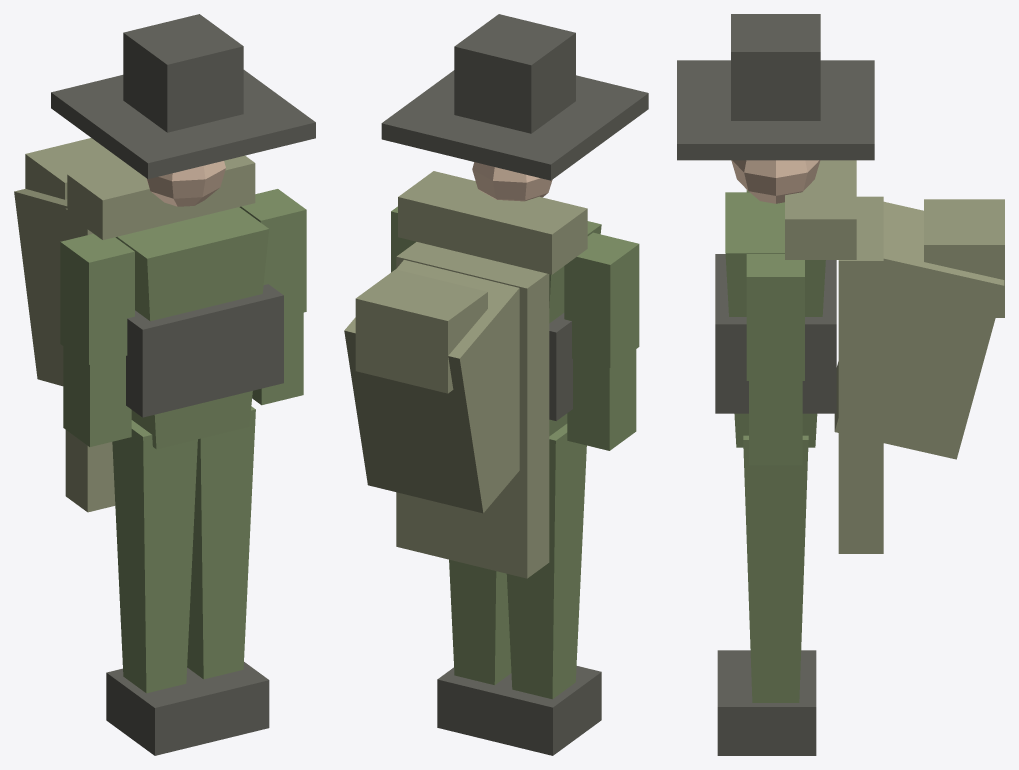
File: unit_sniper_rigged.glb
3 renders of one model, left to right at view 1: azimuth 30°, elevation 25°; view 2: azimuth 150°, elevation 25°; view 3: azimuth 270°, elevation 25°, orthographic.
Parts seen in each view (by area): view 1: accent_head, trim_torso, body_leg-right, body_torso, accent_torso, body_leg-left, body_arm-right, accent_leg-right, body_elbow-right, body_arm-left, accent_leg-left, skin_head (+1 smaller); view 2: trim_torso, accent_head, body_leg-right, body_arm-right, body_leg-left, accent_leg-right, body_elbow-right, accent_leg-left, accent_torso, skin_head, body_torso, body_arm-left; view 3: trim_torso, accent_head, body_leg-left, accent_torso, body_arm-left, body_torso, accent_leg-left, body_elbow-left, skin_head, accent_leg-right.
Boxes of the visible parts, x1,y1,x2,y2 form: accent_head: (51,14,315,179); trim_torso: (14,138,255,512); body_leg-right: (112,420,197,693); body_torso: (115,207,269,449); accent_torso: (126,284,283,417); body_leg-left: (187,406,255,679); body_arm-right: (60,233,134,364); accent_leg-right: (106,668,211,755); body_elbow-right: (63,346,131,446); body_arm-left: (239,189,306,317); accent_leg-left: (186,662,269,741); skin_head: (146,161,225,206); trim_torso: (344,171,587,578); accent_head: (381,14,648,180); body_leg-right: (506,424,586,699); body_arm-right: (564,232,639,367); body_leg-left: (449,559,511,685); accent_leg-right: (495,666,601,755); body_elbow-right: (567,349,636,450); accent_leg-left: (437,667,511,741); accent_torso: (549,313,572,420); skin_head: (472,162,552,201); body_torso: (549,221,601,436); body_arm-left: (391,206,416,272); trim_torso: (785,160,1004,553); accent_head: (677,14,874,160); body_leg-left: (743,435,808,702); accent_torso: (715,254,836,413); body_arm-left: (746,254,804,380); body_torso: (725,192,825,447); accent_leg-left: (717,678,816,755); body_elbow-left: (749,381,802,465); skin_head: (731,160,820,203); accent_leg-right: (717,650,816,678).
Bounding box in the file's own units: 0.9929 × 2.97 × 1.27.
